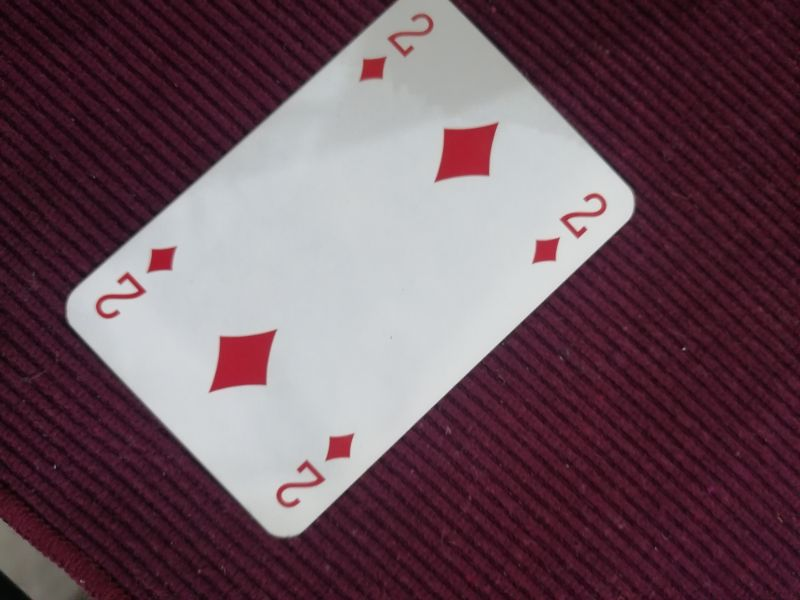2d: (92, 240, 182, 323), (527, 188, 612, 269), (275, 429, 360, 510), (355, 8, 437, 86)
